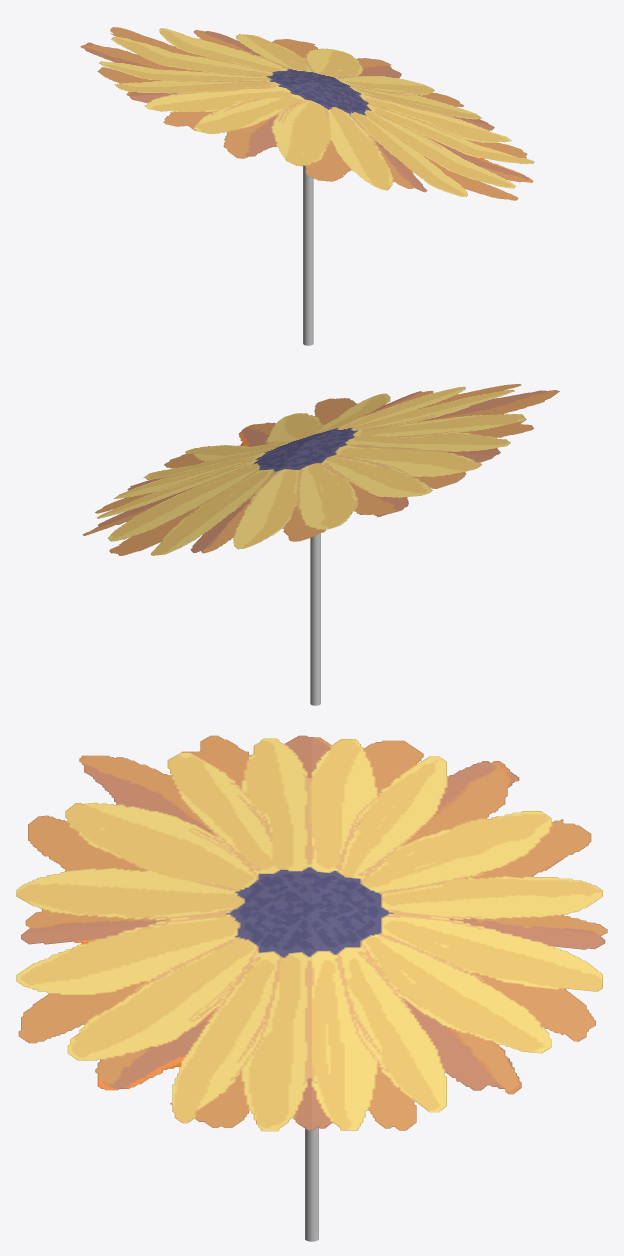
File: Sunflowermaybe we will see 1.fbx
The picture shows the model from 3 angles, top to bottom: view 1: azimuth 30°, elevation 25°; view 2: azimuth 150°, elevation 25°; view 3: azimuth 270°, elevation 25°; orthographic projection. The views are drawn at different scales.
Visible parts, largest first — view 1: Sunflower, Cylinder; view 2: Sunflower, Cylinder; view 3: Sunflower, Cylinder.
Part boxes in pixels (left/top/right/bottom): Sunflower: left=80, top=27, right=534, bottom=200; Cylinder: left=303, top=165, right=313, bottom=345; Sunflower: left=83, top=384, right=559, bottom=555; Cylinder: left=310, top=532, right=320, bottom=705; Sunflower: left=16, top=735, right=607, bottom=1131; Cylinder: left=305, top=1127, right=318, bottom=1241.
Bounding box in the file's own units: 200 × 143 × 191.
